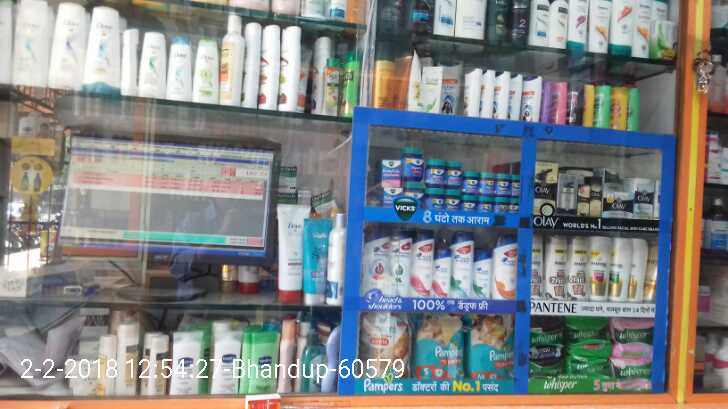vicks: (380, 146, 522, 213)
